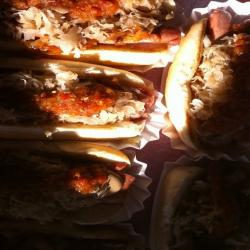hotdog: (3, 54, 155, 144), (4, 137, 141, 233), (162, 10, 250, 157), (150, 158, 250, 248)
